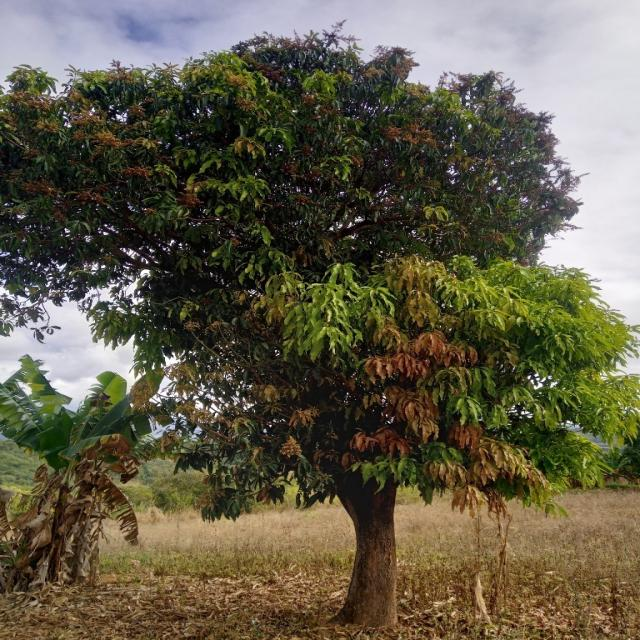Mango-Tree: (7, 39, 584, 612)
